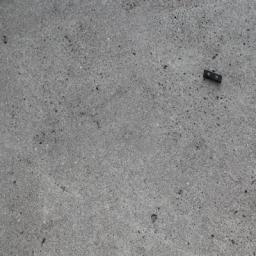FOD: (202, 69, 227, 87)
